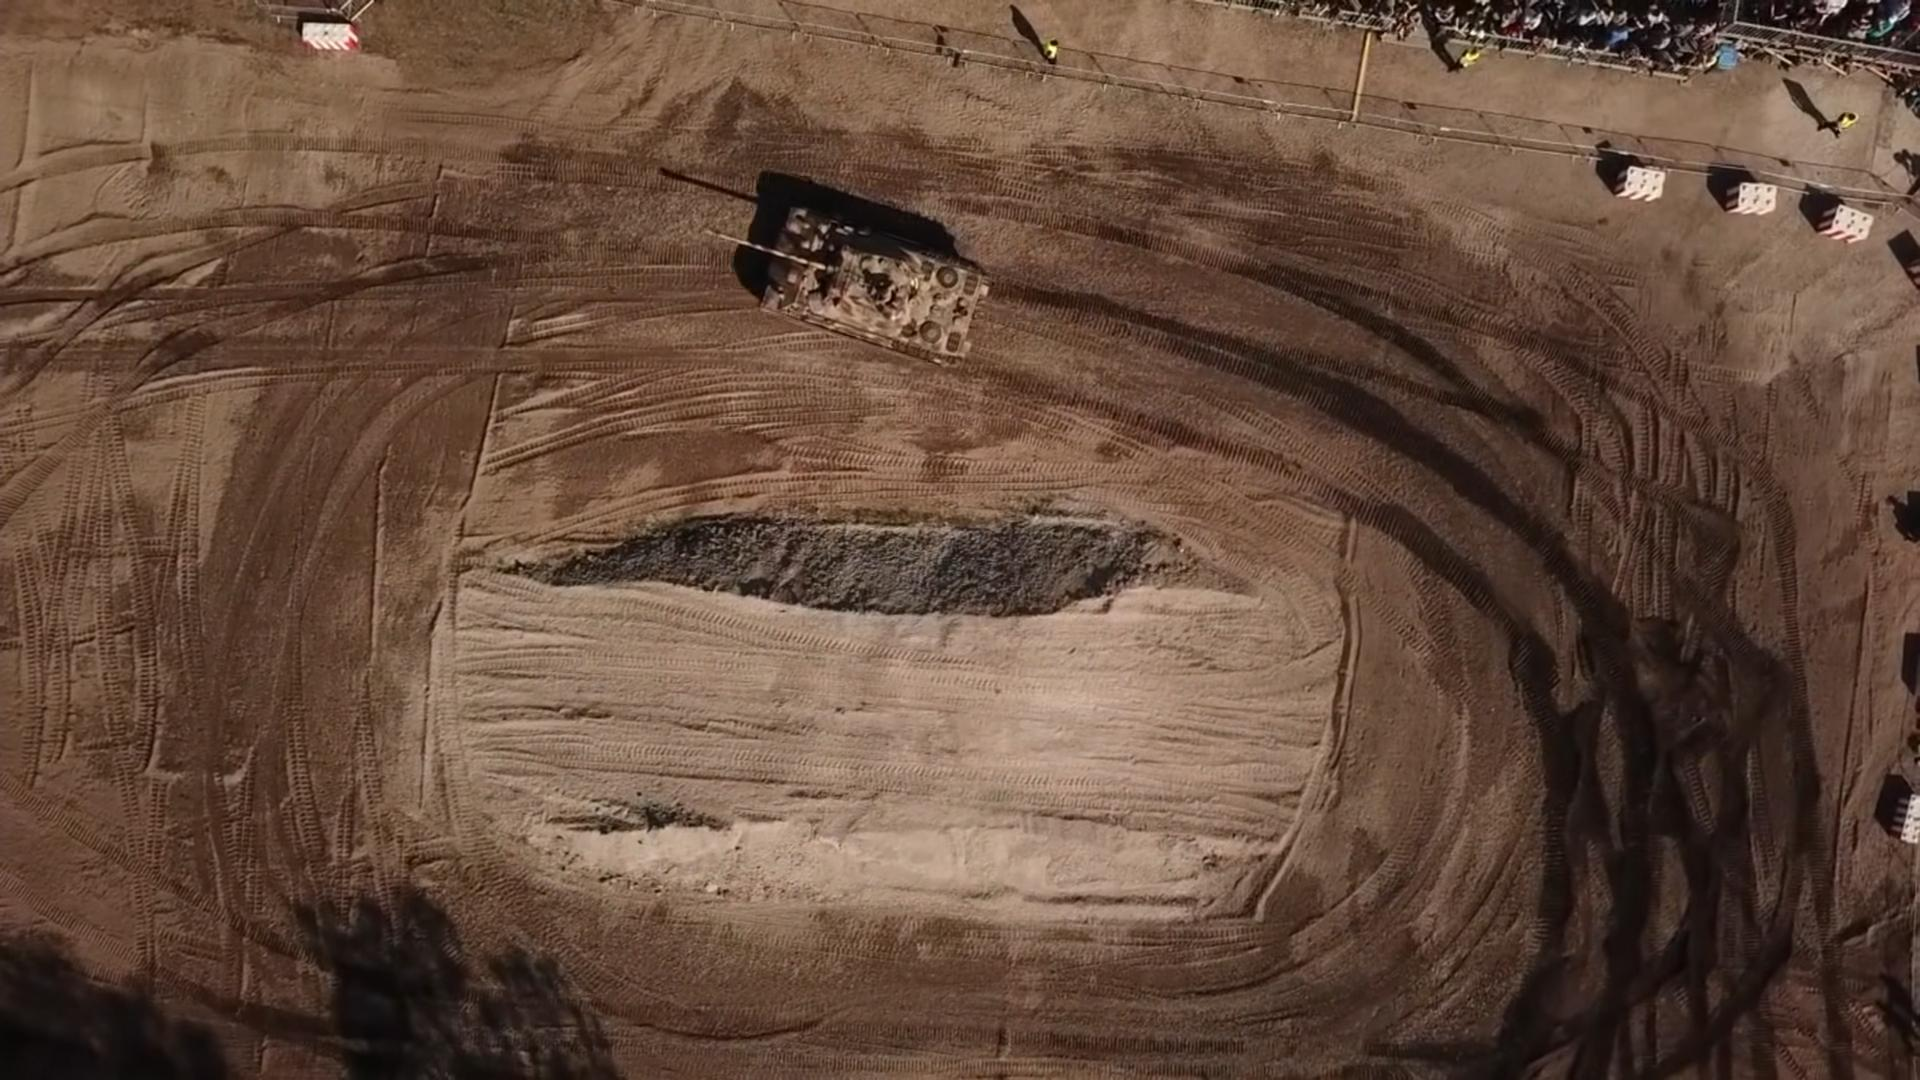tank: (704, 204, 989, 368)
